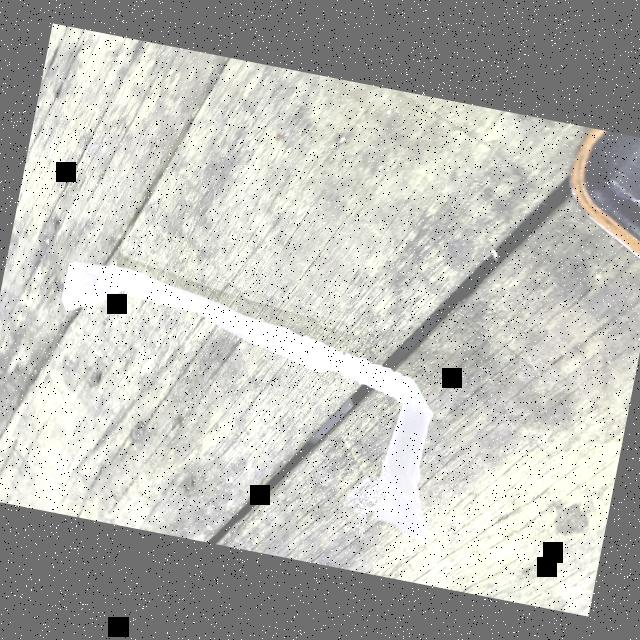scrap_plastic: (22, 250, 459, 538)
